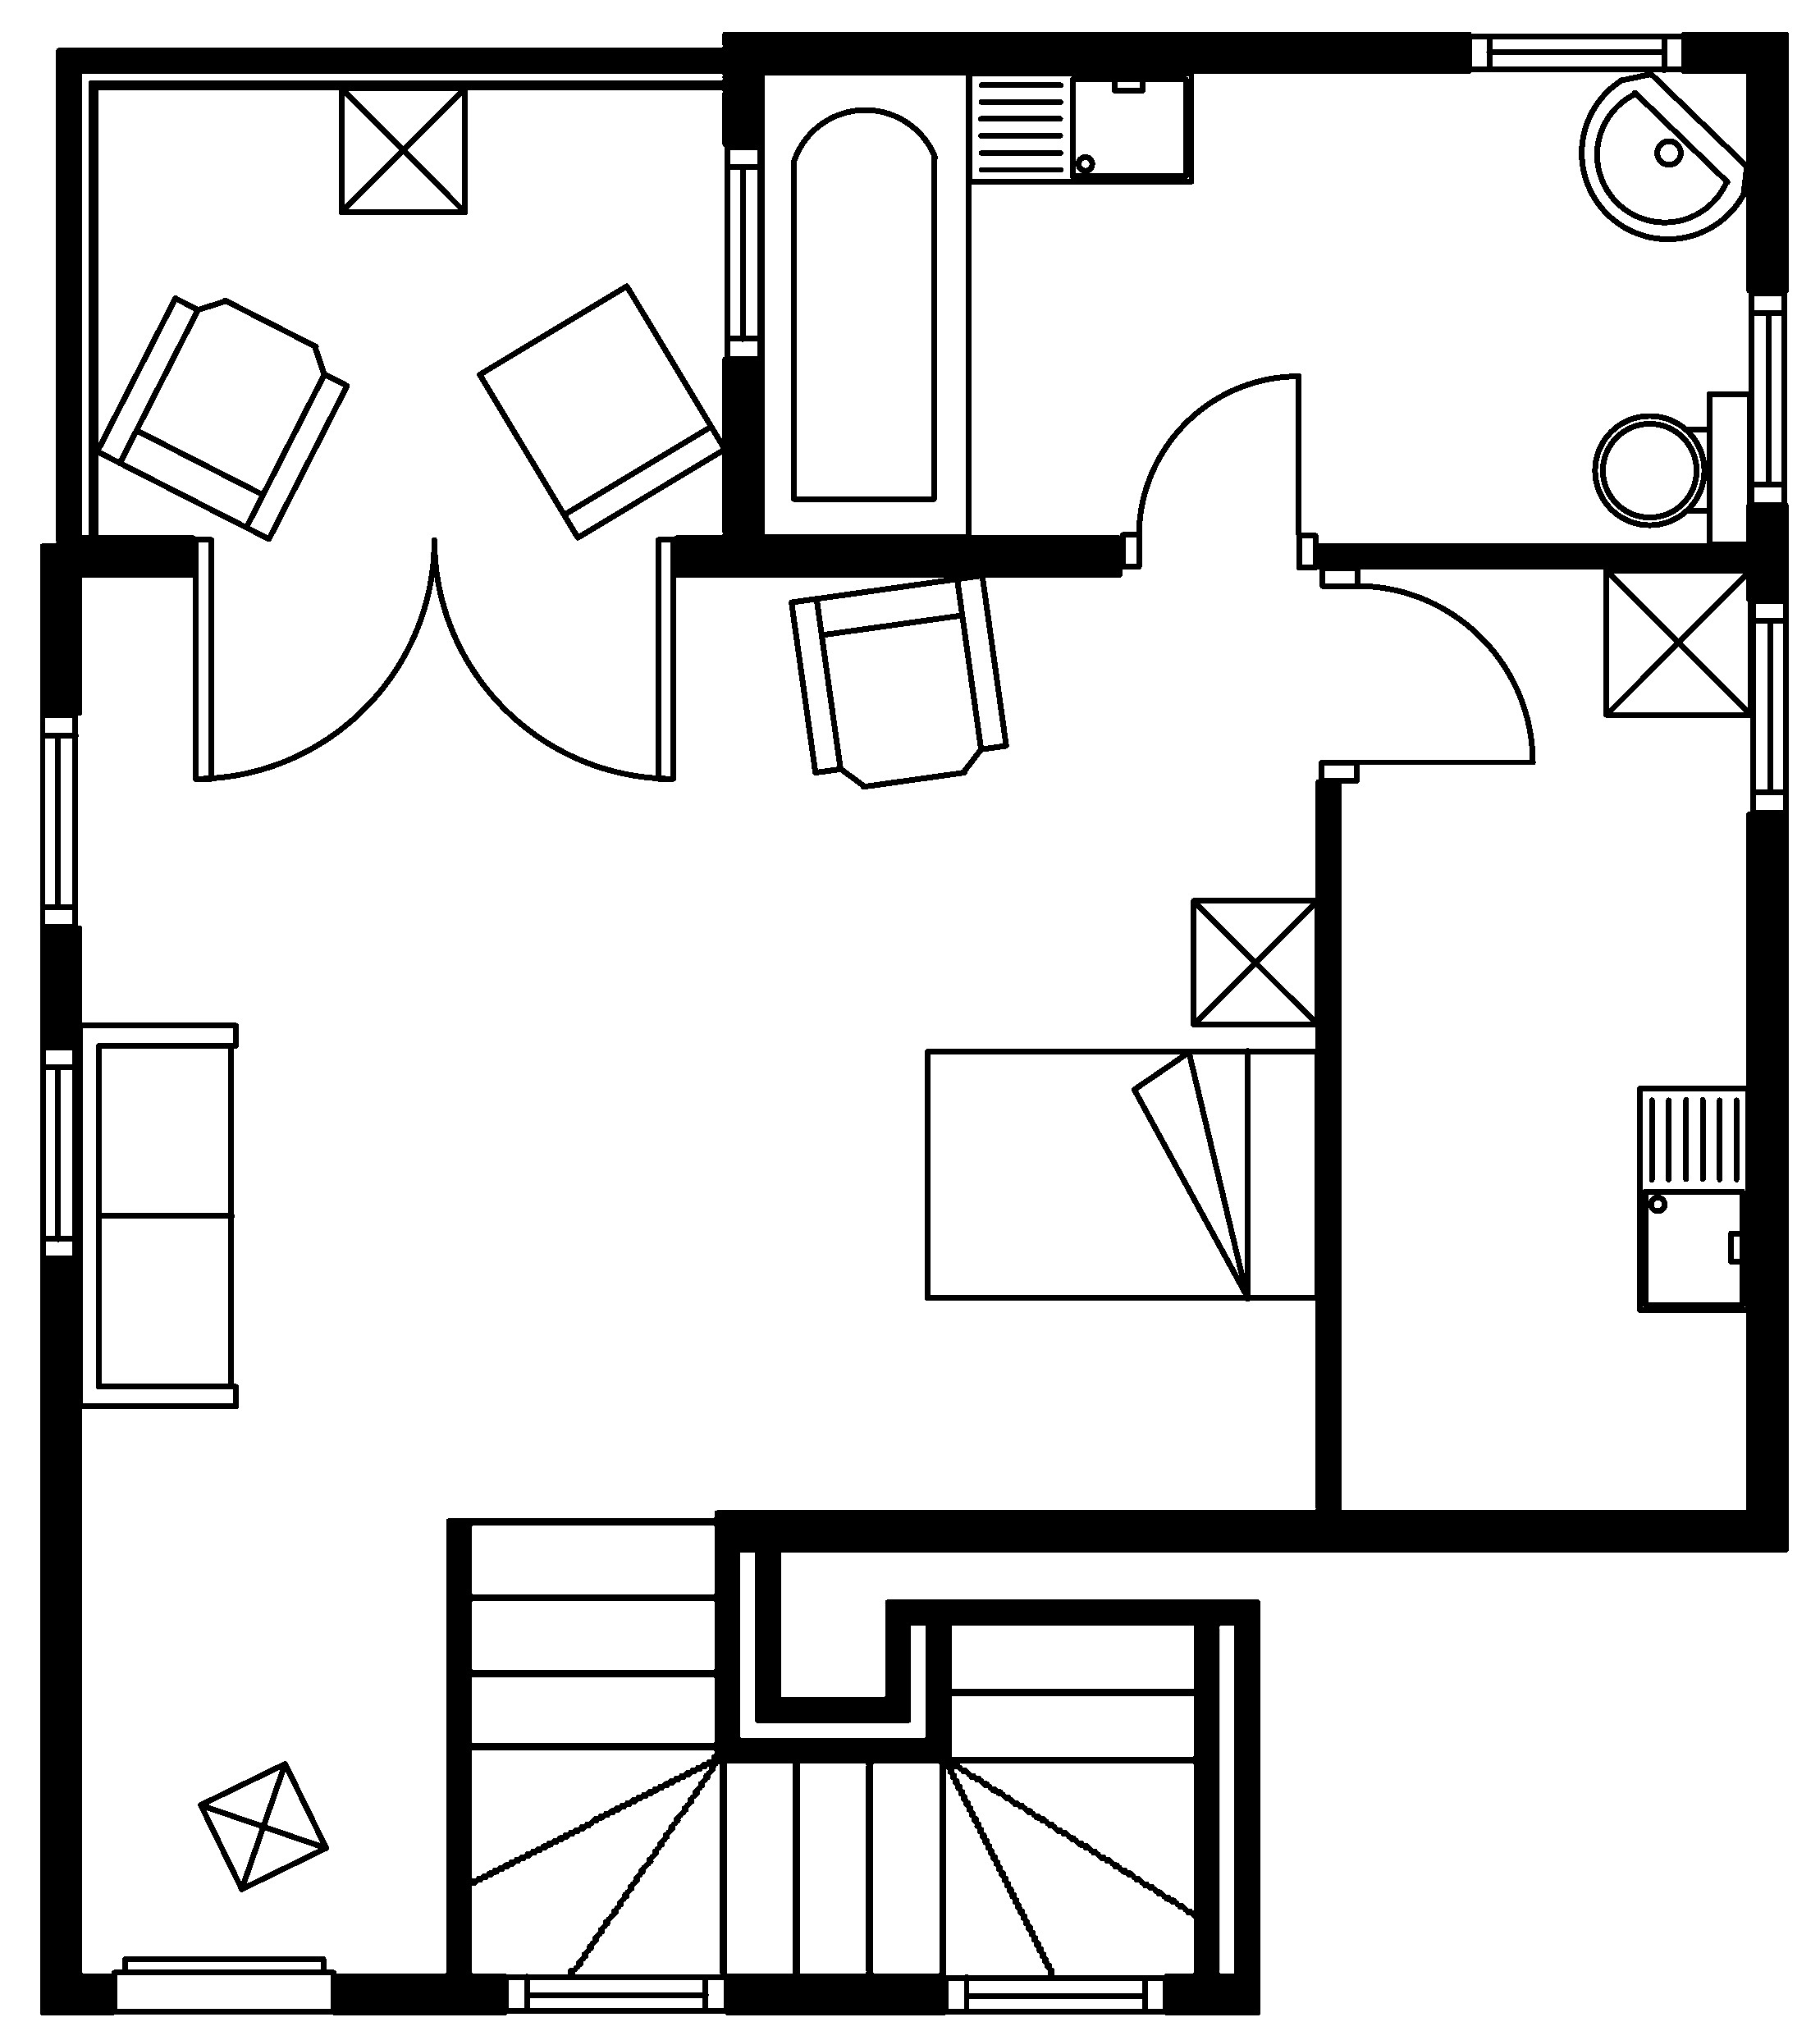armchair: (93, 293, 350, 543), (787, 571, 1010, 791)
bed: (922, 1047, 1321, 1302)
coffee_table: (1602, 566, 1753, 719), (197, 1759, 329, 1892), (1189, 896, 1321, 1028), (337, 84, 467, 214)
large_sink: (1592, 388, 1753, 548)
large_sofa: (76, 1021, 239, 1409)
sink: (964, 69, 1195, 184), (1636, 1084, 1751, 1312)
small_sink: (1578, 70, 1750, 241)
small_sofa: (474, 281, 727, 541)
tub: (757, 69, 971, 539)
